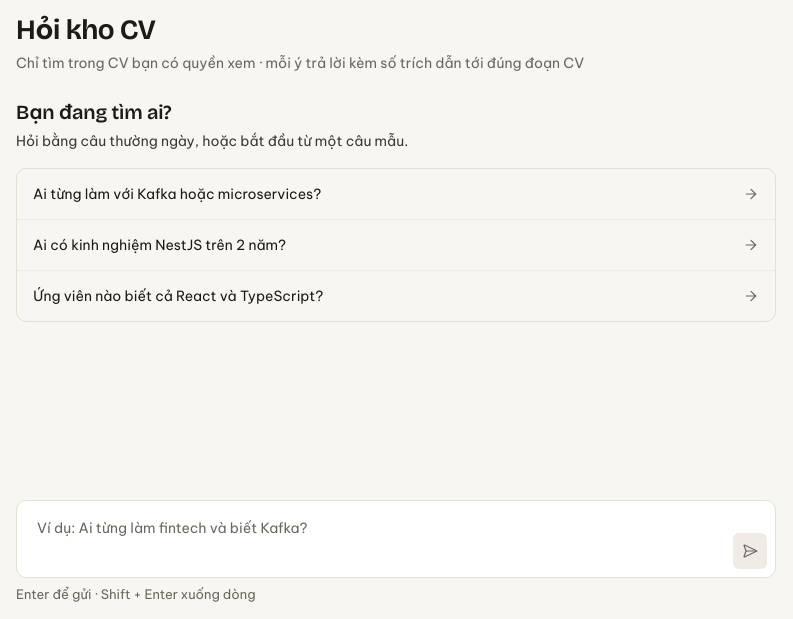
Test case: Hỏi kho CV › tells the user the company used up today’s questions (429 AI_QUOTA_EXCEEDED)
Click the button "Ai có kinh nghiệm NestJS trên 2 năm?" at {"x": 160, "y": 245}, box [17,220,775,270]
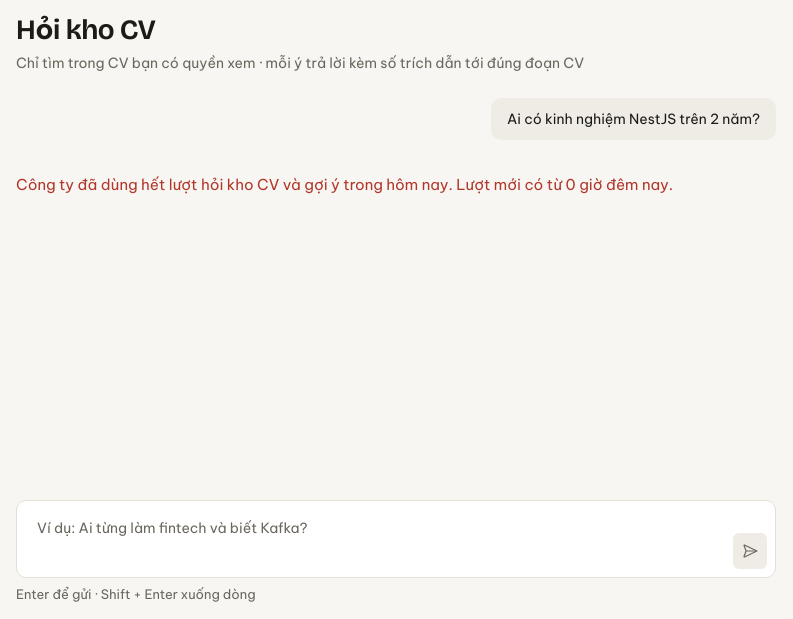
Expected: the text "Công ty đã dùng hết lượt hỏi kho CV và gợi ý trong hôm nay" is shown, [16,175,673,194]
